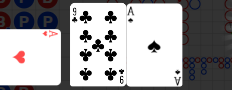4C: (117, 67, 125, 84)
AC: (172, 68, 181, 85)
AH: (40, 29, 58, 38)
